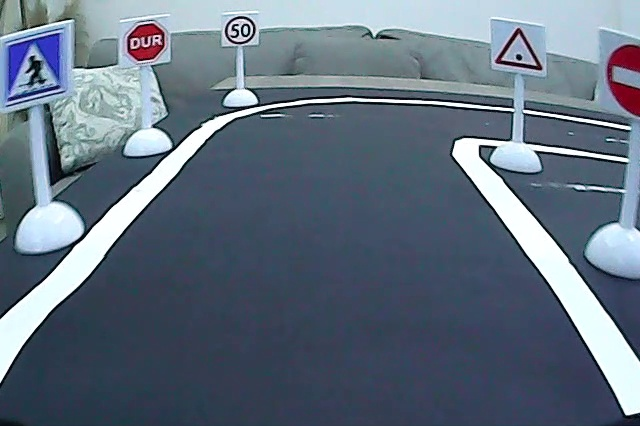do not enter: (604, 38, 640, 119)
green light: (492, 22, 546, 73)
pedestrian crossing: (3, 30, 67, 107)
speed limit 50: (222, 15, 258, 47)
stop sign: (121, 18, 169, 67)
